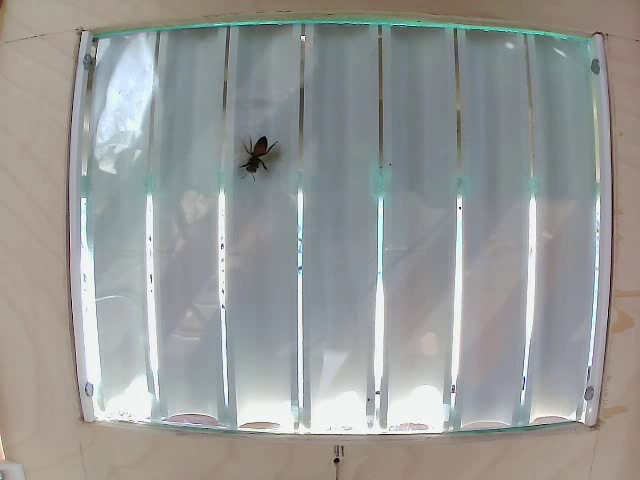bee: (242, 142, 278, 173)
